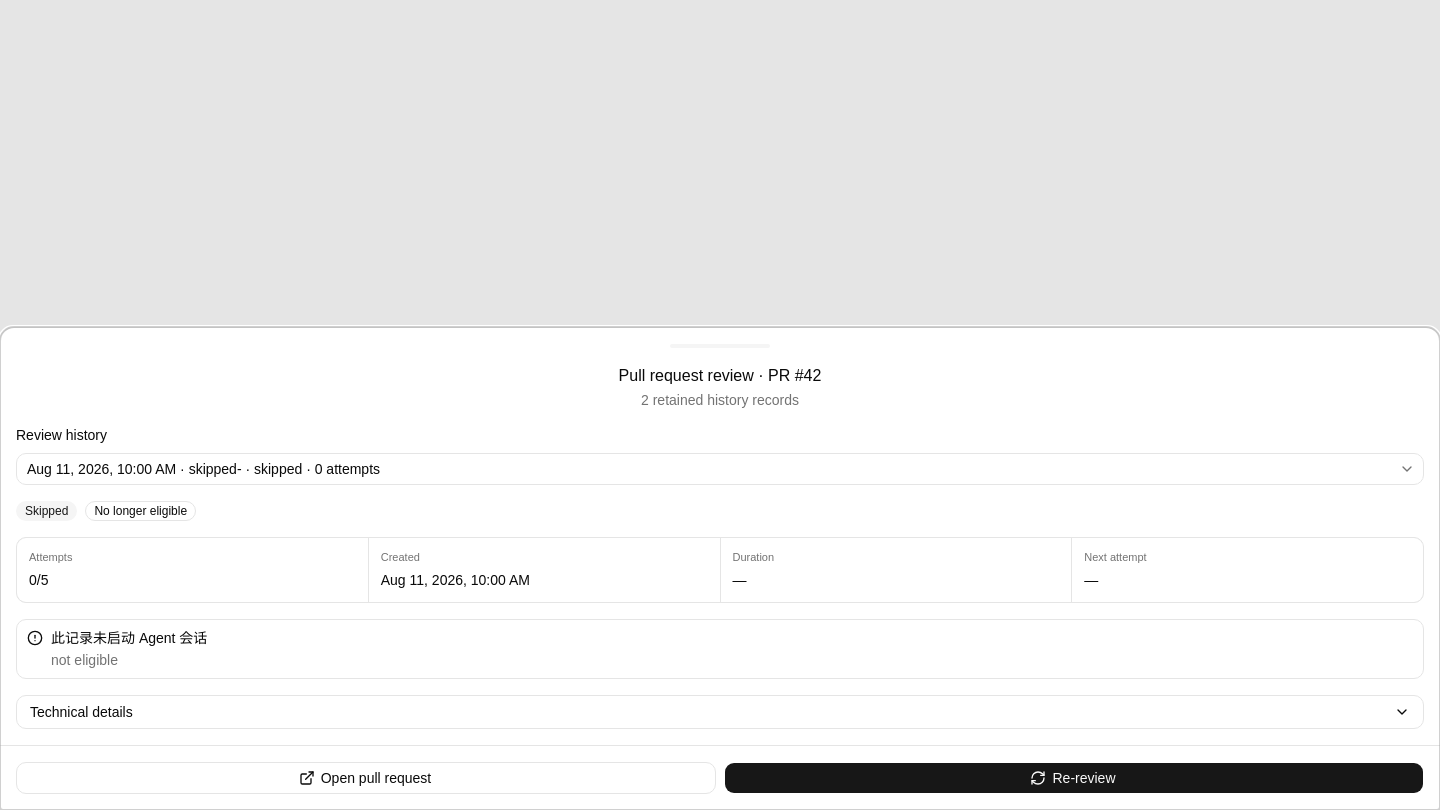
Test: pull request review history › defaults to the latest job, avoids details without attempts, and restores executed history
Expected: the text "此记录未启动 Agent 会话" is shown, [51,630,207,646]
Click the dropdown named "Review history": (204, 469) [16,453,1424,485]
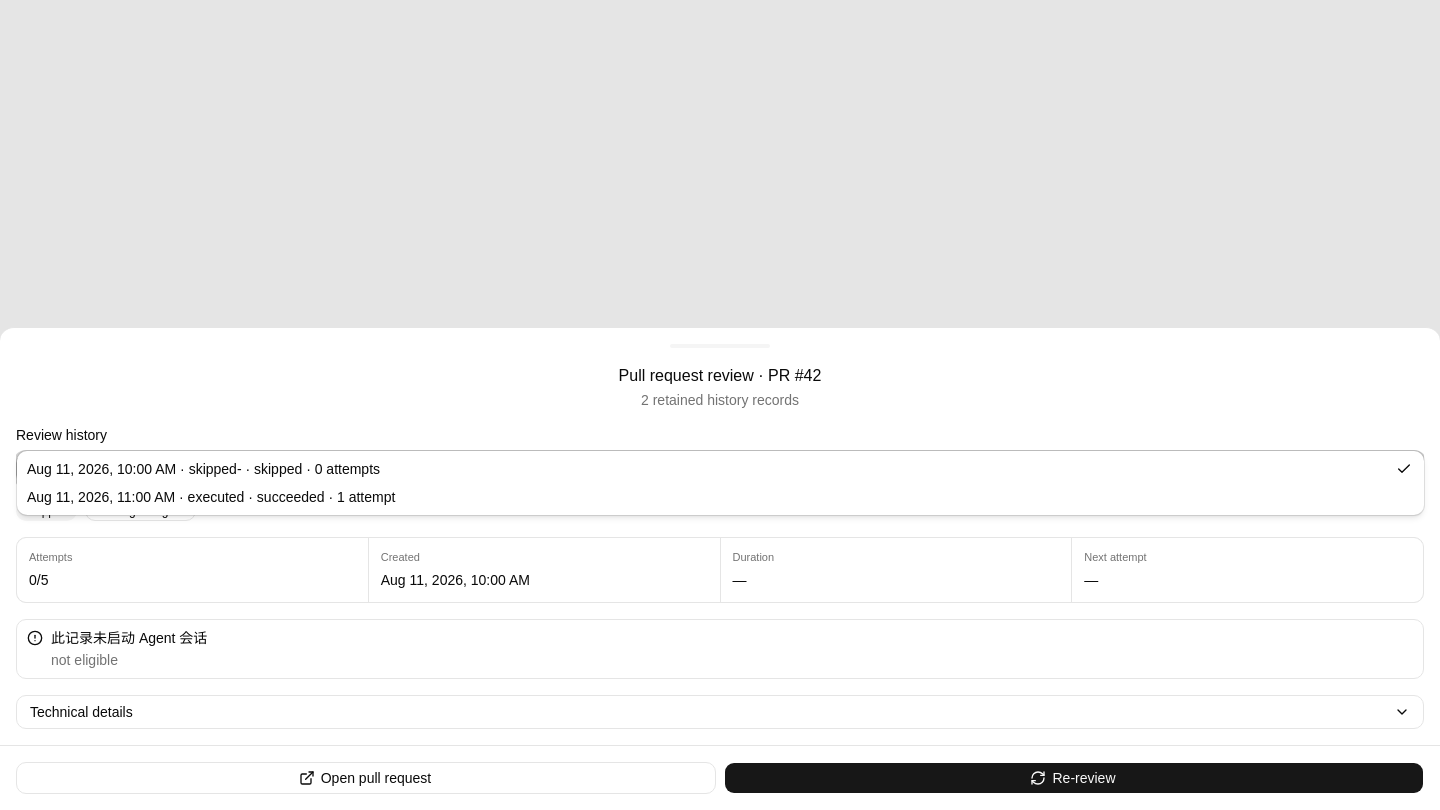
Click the option "Aug 11, 2026, 11:00 AM · executed · succeeded · 1 attempt": (211, 497) [27,489,395,505]
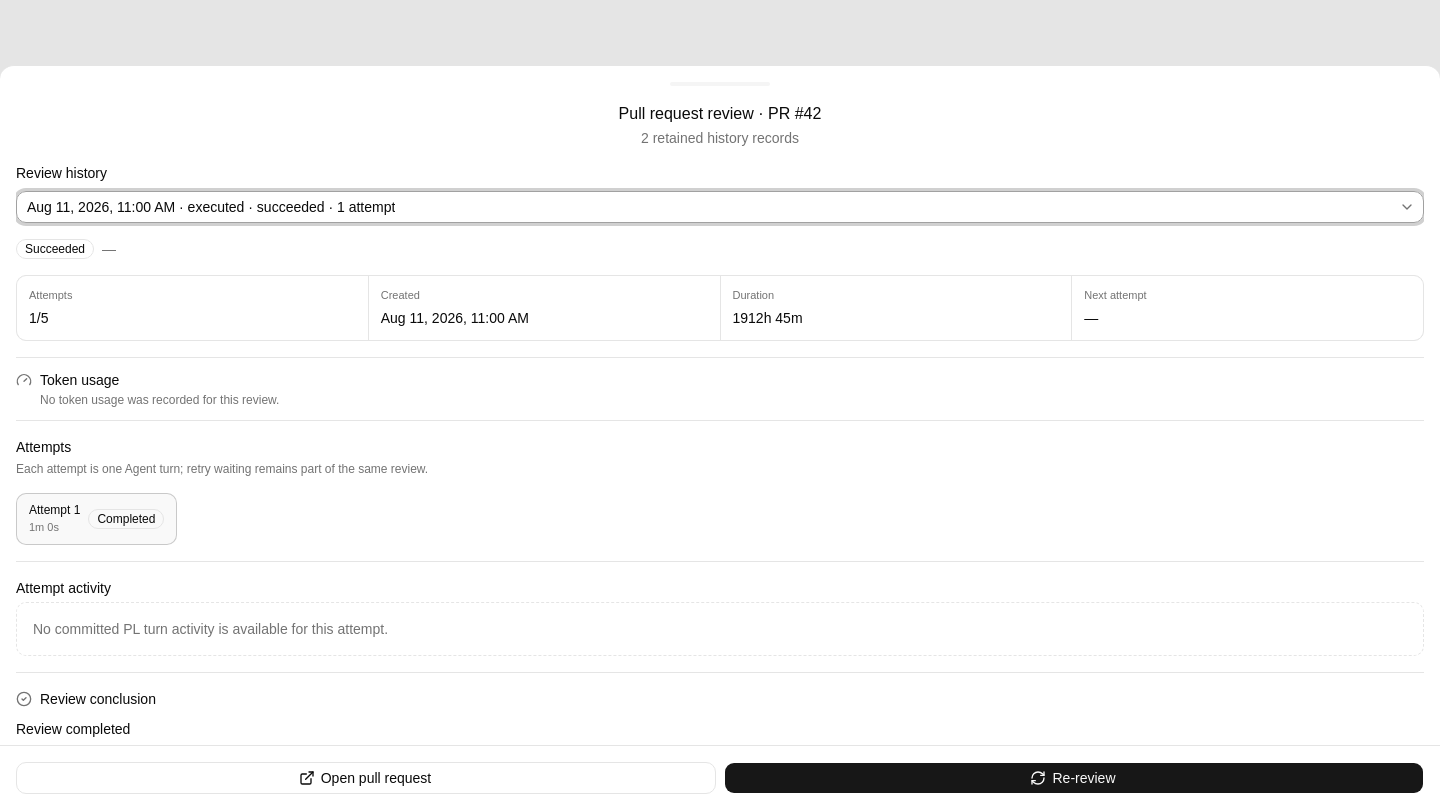
Now the text "Attempt 1" is shown, box [29,502,80,518]
Click the dropdown named "Review history": (211, 207) [16,191,1424,223]
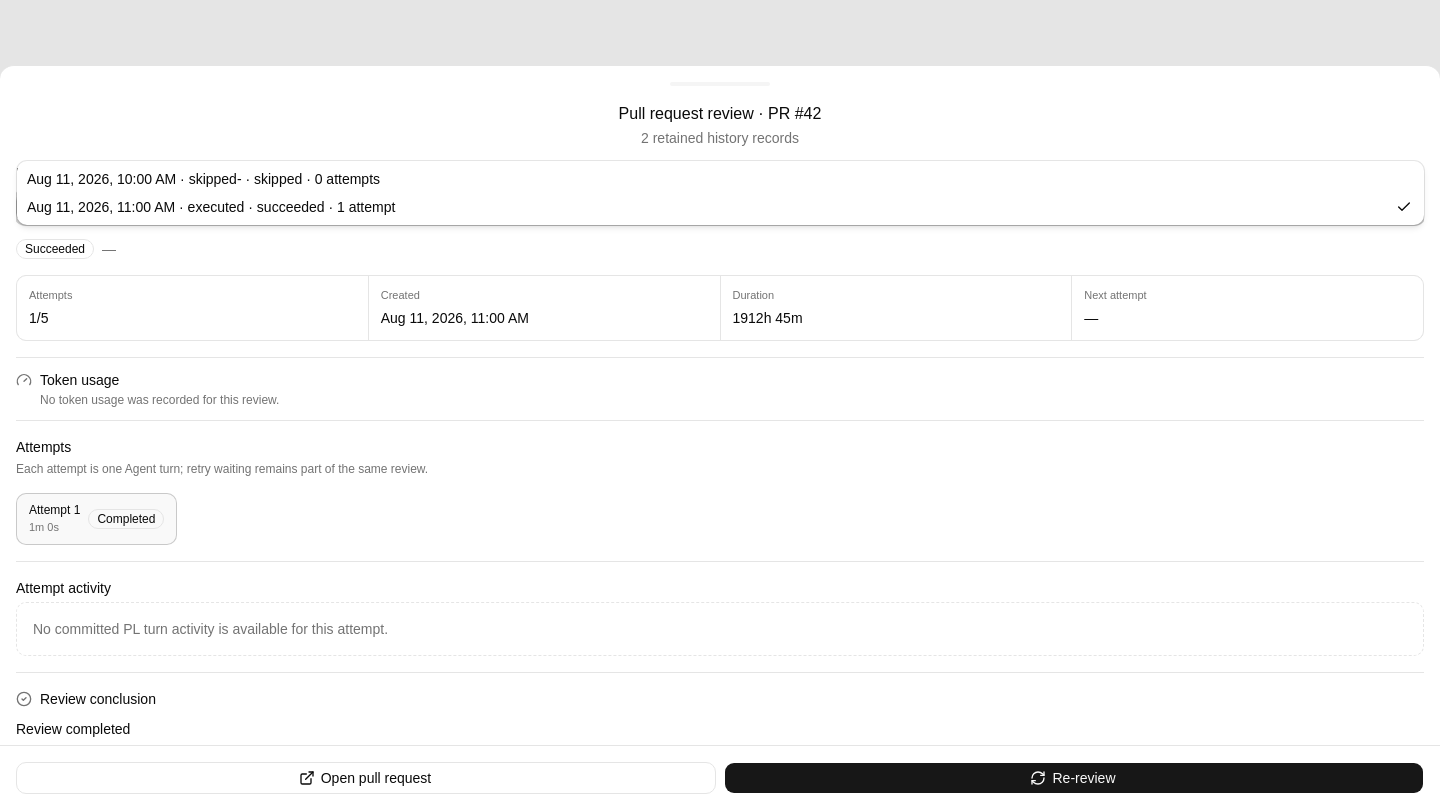
Click the option "Aug 11, 2026, 10:00 AM · skipped- · skipped · 0 attempts": (204, 179) [27,171,380,187]
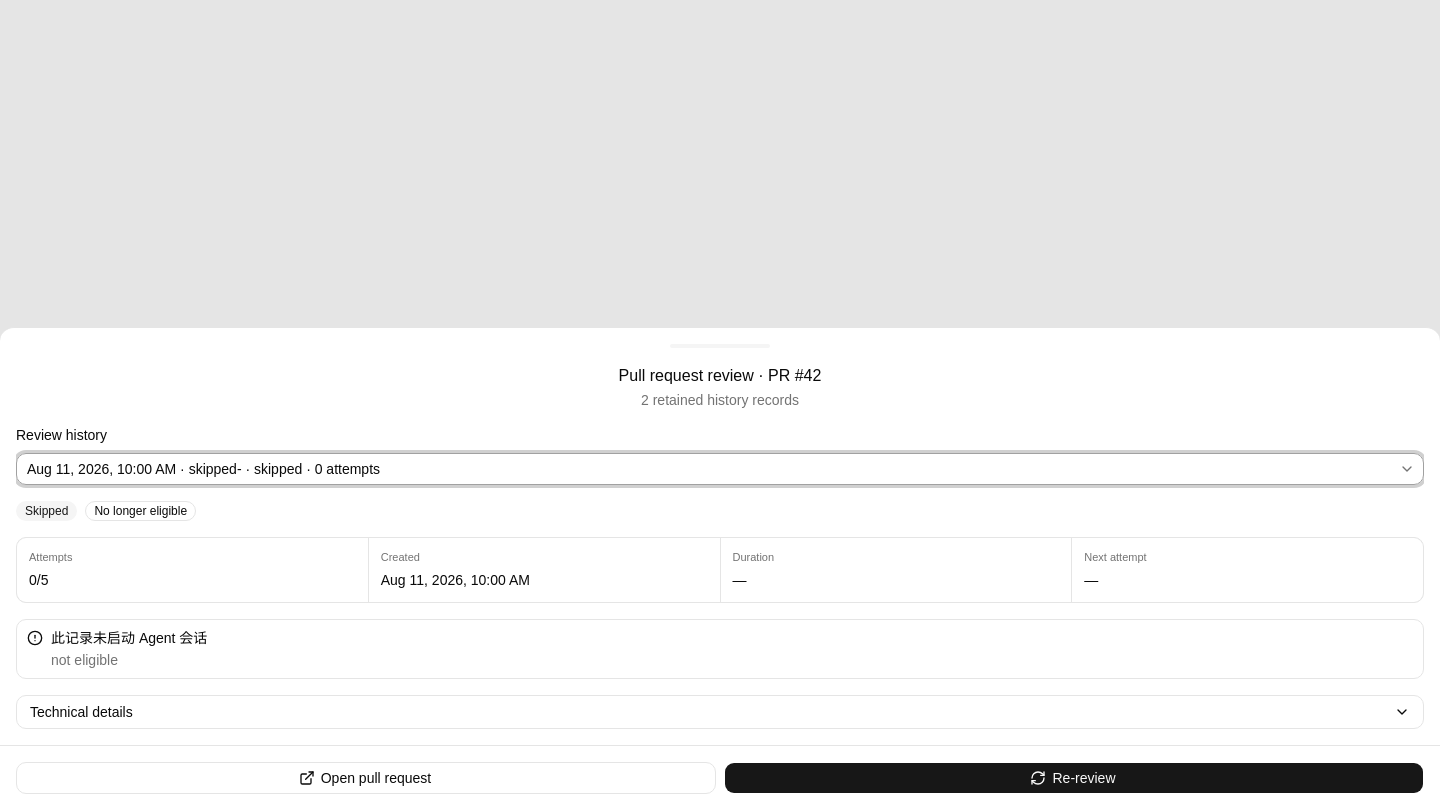
Now the text "此记录未启动 Agent 会话" is shown, box [51,630,207,646]
